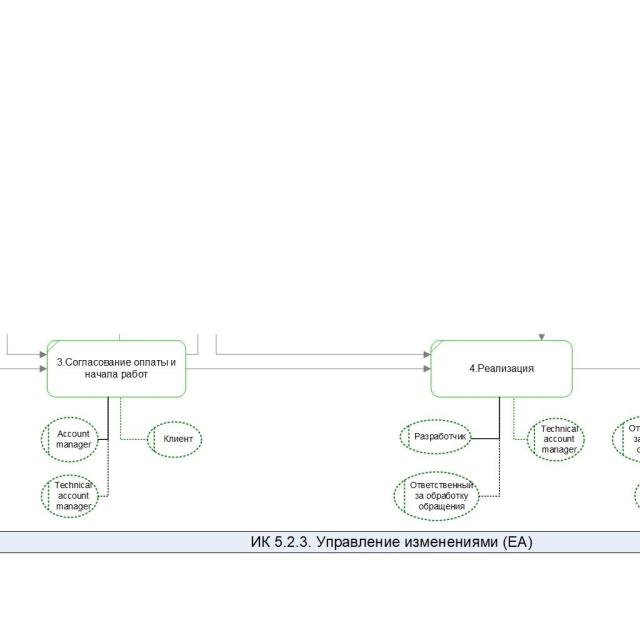arrow: (187, 363, 430, 374)
rectangle: (431, 340, 572, 397), (47, 340, 186, 397)
